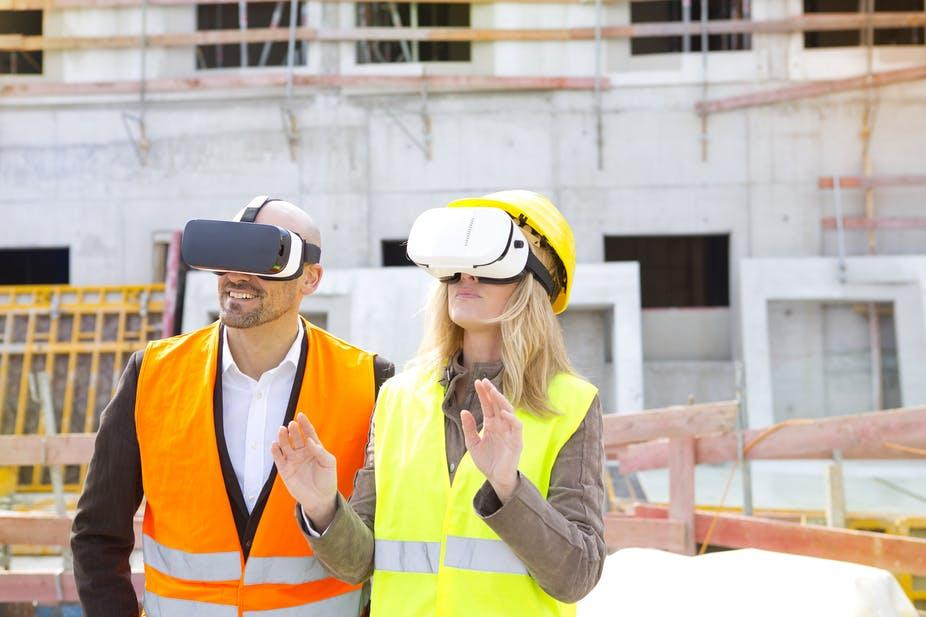helmet: (408, 193, 578, 309)
